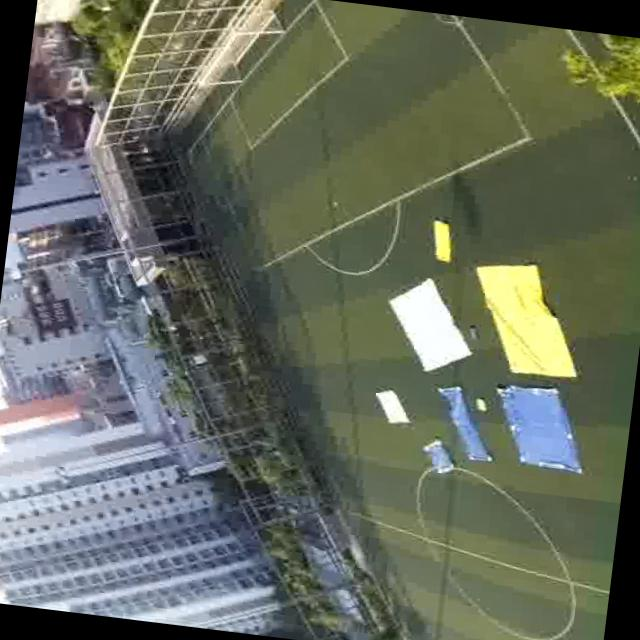danger: (501, 380, 585, 470), (428, 378, 474, 437), (418, 435, 458, 473)
safety: (377, 270, 474, 372), (363, 382, 414, 430)
warning: (484, 260, 587, 380), (428, 218, 463, 264)
